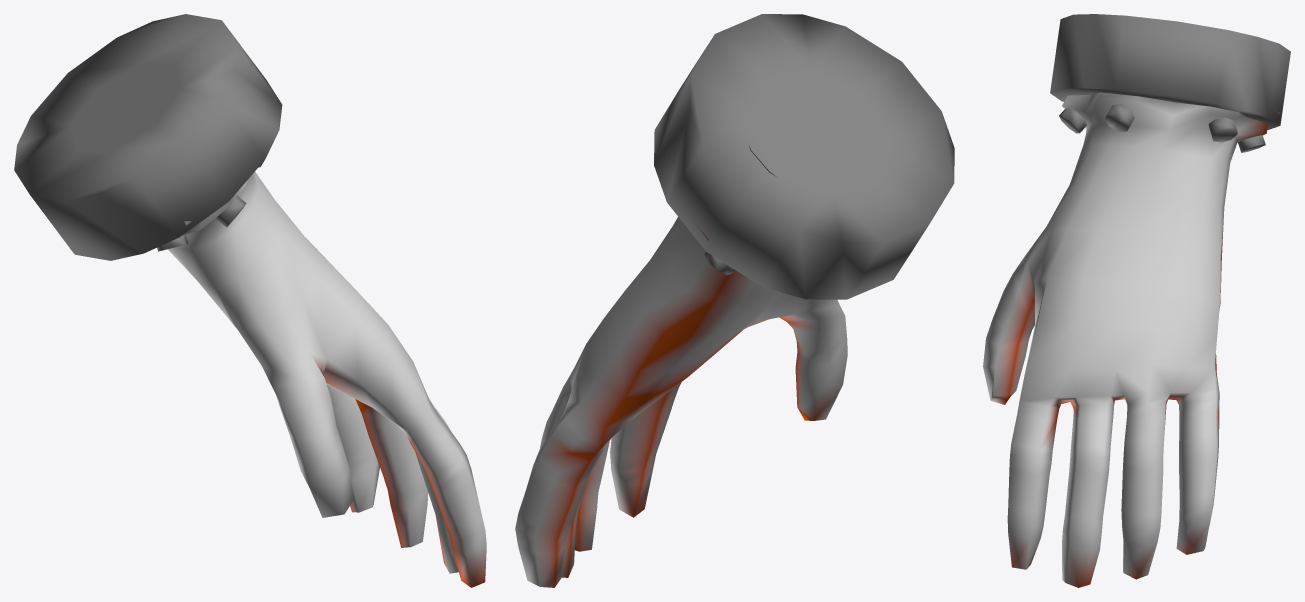
File: BirthdayBoy_hand.fbx
3 renders of one model, left to right at view 1: azimuth 30°, elevation 25°; view 2: azimuth 150°, elevation 25°; view 3: azimuth 270°, elevation 25°, orthographic. The views are drawn at different scales.
Parts seen in each view (by area): view 1: Emo_body_low, PM3D_Circle3D1; view 2: PM3D_Circle3D1, Emo_body_low; view 3: Emo_body_low, PM3D_Circle3D1.
Boxes of the visible parts, x1,y1,x2,y2 form: Emo_body_low: (168,171,486,587); PM3D_Circle3D1: (14,14,282,260); PM3D_Circle3D1: (654,14,954,299); Emo_body_low: (515,145,847,587); Emo_body_low: (983,92,1281,587); PM3D_Circle3D1: (1050,14,1290,152).
Size of the model in its own units: 0.1793 by 0.2454 by 0.1403.
